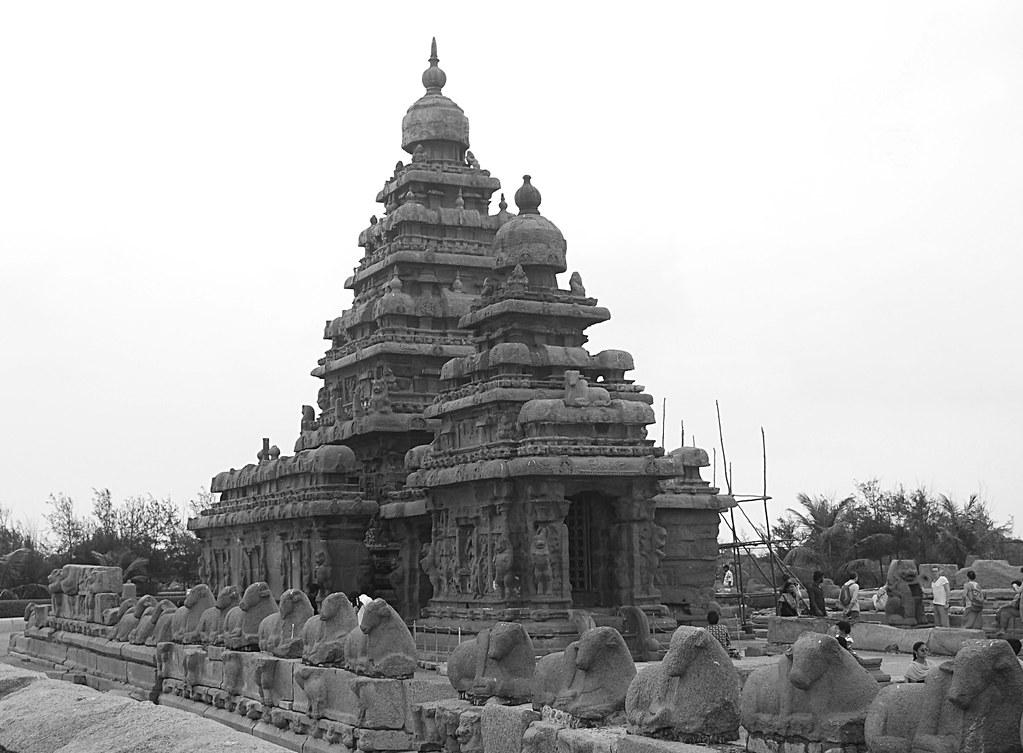temple: (185, 34, 752, 643)
